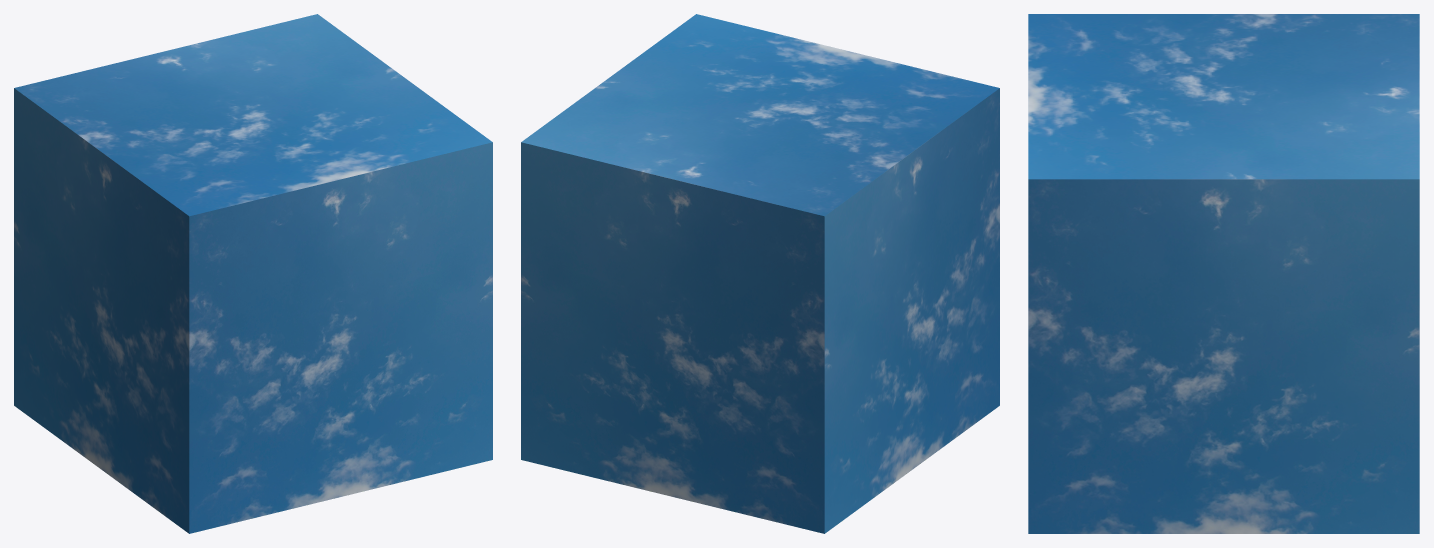
The model's file is tank.gltf.
The picture shows the model from 3 angles, left to right: view 1: azimuth 30°, elevation 25°; view 2: azimuth 150°, elevation 25°; view 3: azimuth 270°, elevation 25°; orthographic projection. The views are drawn at different scales.
Visible parts, largest first — view 1: Stena3, Stena4, Stena5; view 2: Stena1, Stena4, Stena5; view 3: Stena2, Stena5.
Part boxes in pixels (x1,y1,x2,y2): Stena3: (189,142,492,533); Stena4: (14,88,189,533); Stena5: (14,14,492,216); Stena1: (521,142,824,533); Stena4: (824,88,999,533); Stena5: (521,14,999,216); Stena2: (1028,179,1419,533); Stena5: (1028,14,1419,179).
Bounding box in the file's own units: 442 × 442 × 442.
